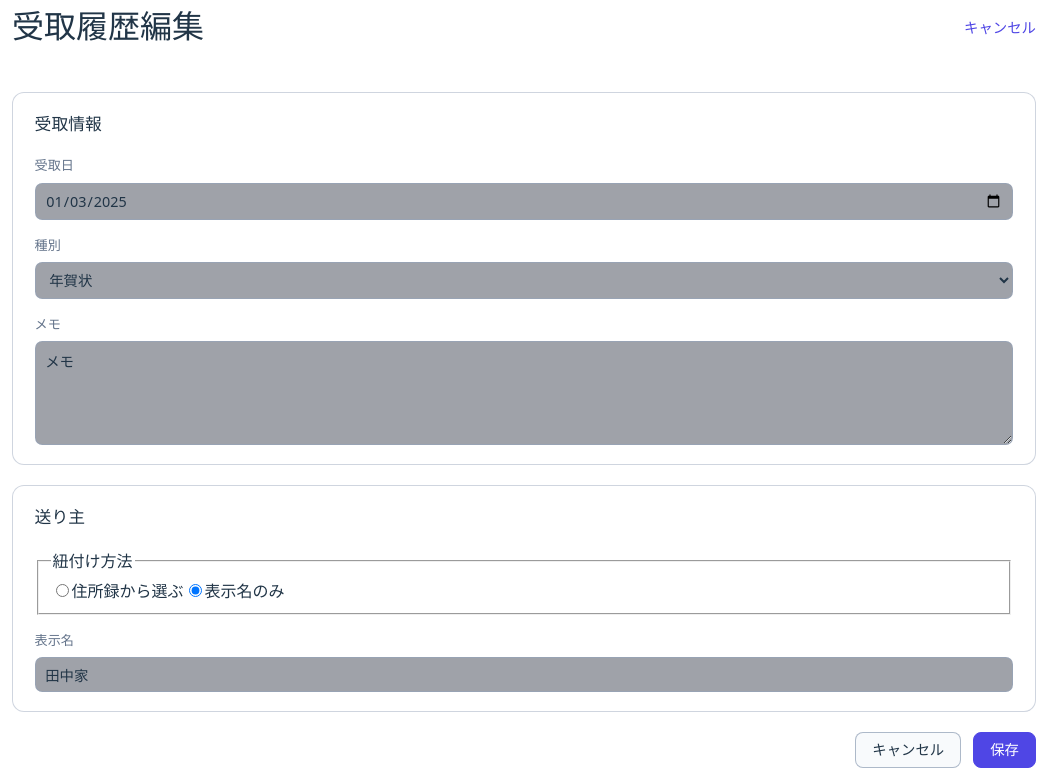
it: PostcardReceiptEditPage › shows conflict guidance when update is rejected
(page scrolled)
Click the button "保存": (1005, 750) x1=973 y1=732 x2=1036 y2=767
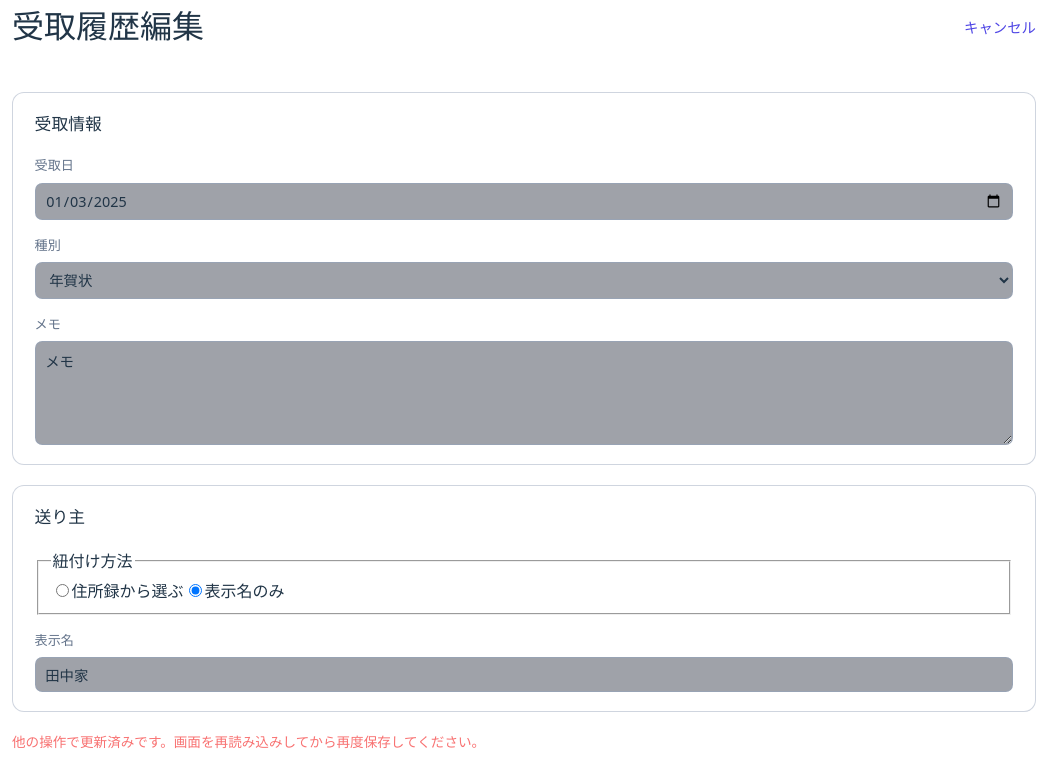
Result: the text "他の操作で更新済みです。画面を再読み込みしてから再度保存してください。" is shown at x1=12 y1=732 x2=485 y2=751
